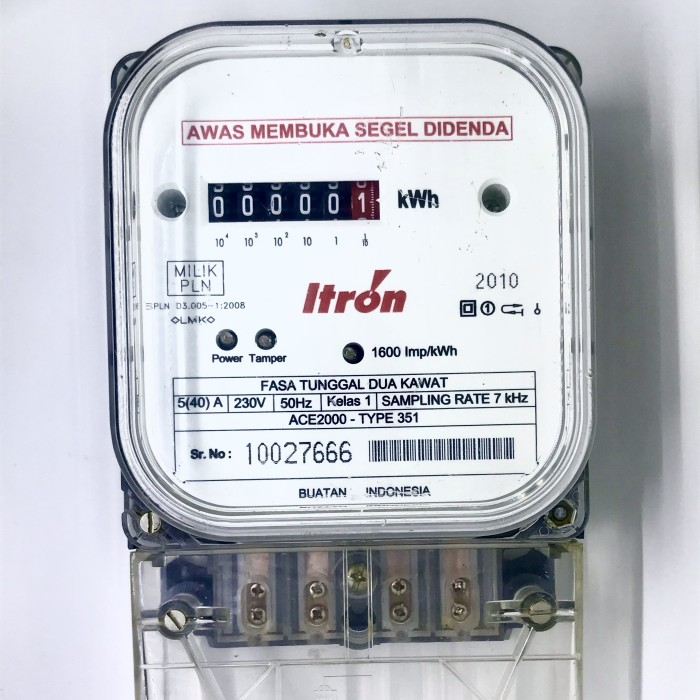analog: (210, 190, 370, 221)
